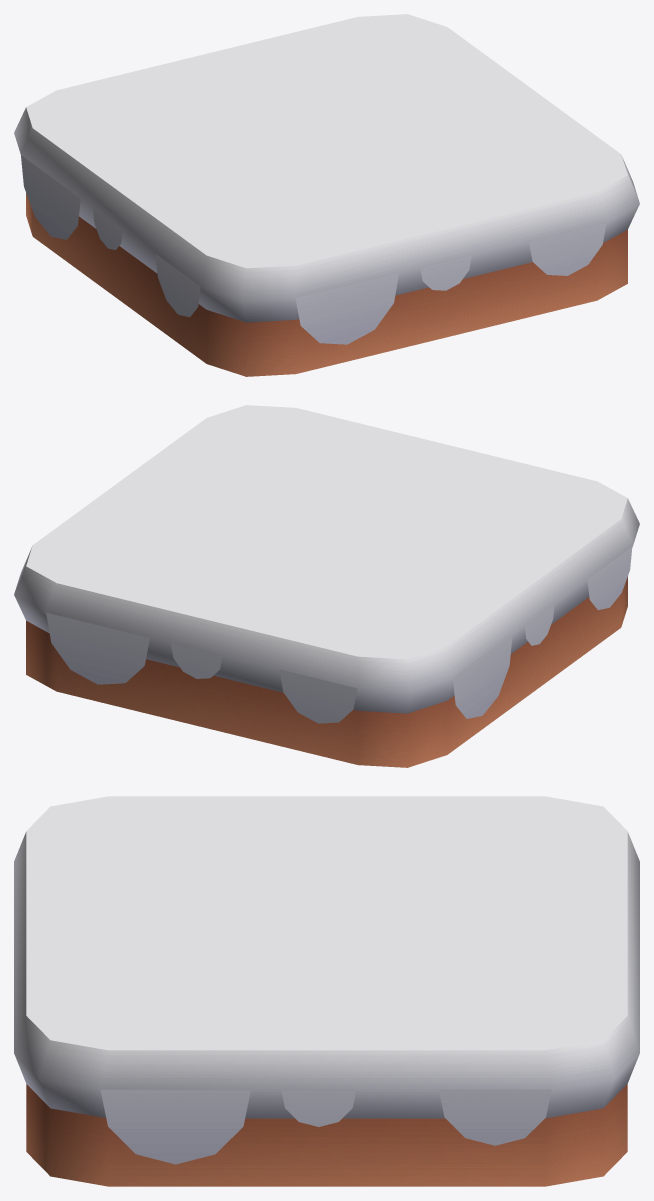
File: block-snow-overhang-low-large.glb
3 views of the same model, one above another, from view 1: azimuth 30°, elevation 25°; view 2: azimuth 150°, elevation 25°; view 3: azimuth 270°, elevation 25° (orthographic). The views are drawn at different scales.
Parts seen in each view (by area): view 1: block-snow-overhang-low-large; view 2: block-snow-overhang-low-large; view 3: block-snow-overhang-low-large.
Boxes of the visible parts, bbox=[...] form: block-snow-overhang-low-large: bbox=[14, 14, 639, 376]; block-snow-overhang-low-large: bbox=[14, 405, 639, 767]; block-snow-overhang-low-large: bbox=[14, 796, 639, 1186].
Size of the model in its own units: 2.08 by 0.5 by 2.08.
Materials: 1 (1 with a texture image).
